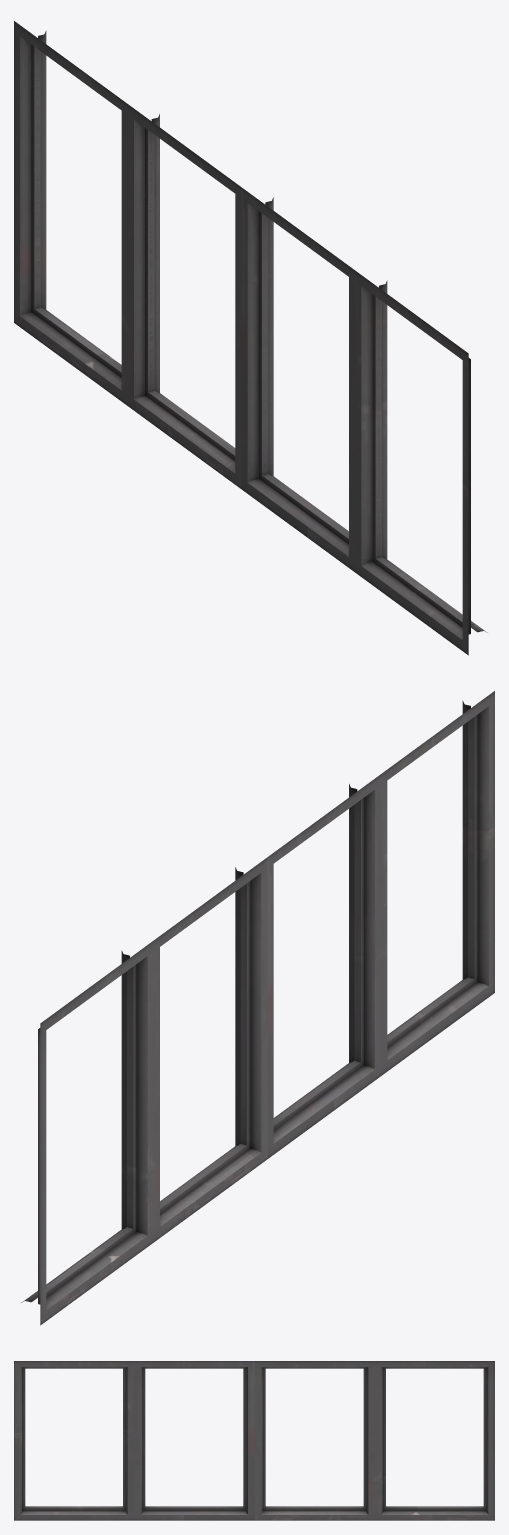
3 views of the same model, one above another, from view 1: azimuth 30°, elevation 25°; view 2: azimuth 150°, elevation 25°; view 3: azimuth 270°, elevation 25° (orthographic). The views are drawn at different scales.
Parts seen in each view (by area): view 1: body0_model0_lod0_mesh0; view 2: body0_model0_lod0_mesh0; view 3: body0_model0_lod0_mesh0.
Boxes of the visible parts, <box> form: body0_model0_lod0_mesh0: <box>14,21,487,655</box>; body0_model0_lod0_mesh0: <box>21,691,494,1325</box>; body0_model0_lod0_mesh0: <box>14,1361,494,1520</box>.
Bounding box in the file's own units: 8 × 87.99 × 240.
1 material, 1 textured.
